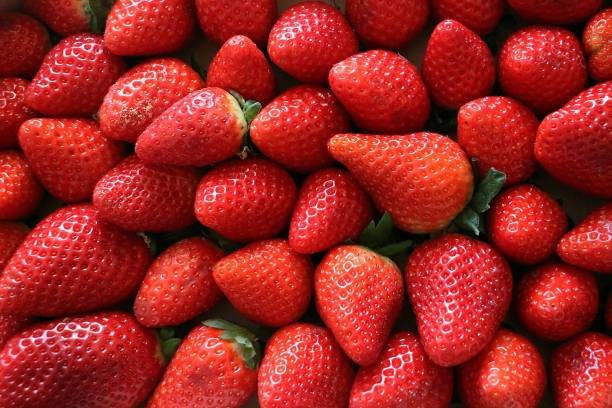Fresa: (324, 119, 477, 238), (4, 204, 151, 321), (1, 309, 170, 408), (406, 231, 514, 365), (316, 236, 406, 368), (249, 77, 355, 176), (94, 52, 204, 147), (531, 76, 612, 203), (133, 84, 251, 171), (326, 46, 437, 138), (22, 31, 129, 125), (149, 317, 259, 408), (17, 112, 125, 203), (90, 148, 204, 234), (130, 233, 230, 327), (454, 91, 548, 190), (211, 236, 314, 326), (347, 328, 454, 408), (497, 24, 590, 114), (286, 164, 375, 257), (260, 321, 355, 408), (266, 3, 361, 84), (489, 179, 572, 271), (421, 15, 498, 114), (512, 259, 597, 346), (461, 324, 549, 408), (547, 328, 612, 408), (206, 35, 280, 104)
